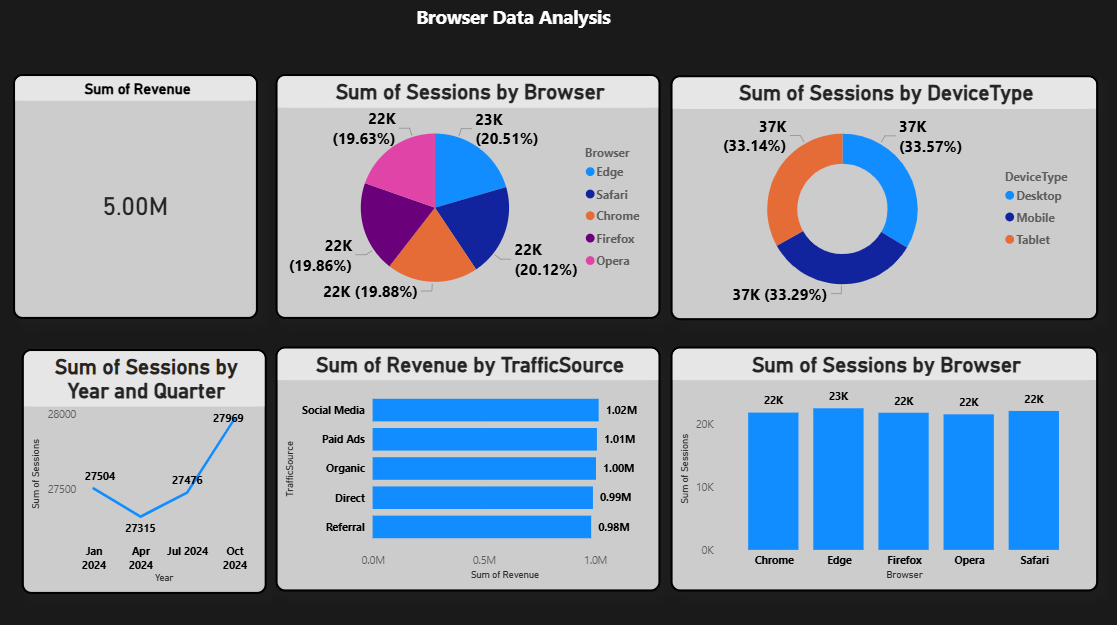

This screenshot's page, from the dashboard's own definition file:
{"tool":"powerbi","page":{"name":"Page 1","canvas":[1280,720],"ordinal":0},"visuals":[{"type":"card","title":"Sum of Revenue","fields":{"Values":["Sum(BrowserAnalyticsData.Revenue)"]},"box":[17.1,85.7,280,280],"z":0},{"type":"pieChart","fields":{"Category":["BrowserAnalyticsData.Browser"],"Y":["Sum(BrowserAnalyticsData.Sessions)"]},"box":[317.1,85.7,440,280],"z":1000},{"type":"donutChart","fields":{"Category":["BrowserAnalyticsData.DeviceType"],"Y":["Sum(BrowserAnalyticsData.Sessions)"]},"box":[768.6,87.1,488.6,280],"z":2000},{"type":"lineChart","fields":{"Category":["BrowserAnalyticsData.Date.Variation.Date Hierarchy.Year","BrowserAnalyticsData.Date.Variation.Date Hierarchy.Quarter","BrowserAnalyticsData.Date.Variation.Date Hierarchy.Month","BrowserAnalyticsData.Date.Variation.Date Hierarchy.Day"],"Y":["Sum(BrowserAnalyticsData.Sessions)"]},"box":[27.4,400.7,279.9,279.9],"z":3000},{"type":"clusteredBarChart","fields":{"Category":["BrowserAnalyticsData.TrafficSource"],"Y":["Sum(BrowserAnalyticsData.Revenue)"]},"box":[317.1,397.1,440,280],"z":4000},{"type":"columnChart","fields":{"Category":["BrowserAnalyticsData.Browser","BrowserAnalyticsData.DeviceType"],"Y":["Sum(BrowserAnalyticsData.Sessions)"]},"box":[768.6,397.1,488.6,280],"z":5000},{"type":"textbox","box":[473.4,0,434,41.5],"z":6000}]}

Visuals, with their boxes in screenshot pixels (x1, y1, x2, y2), scaled from the page's 1280x720 canvas onto the 1117x625 screenshot:
"Sum of Revenue" card: {"x1": 15, "y1": 74, "x2": 259, "y2": 317}
pieChart - BrowserAnalyticsData.Browser x Sum(BrowserAnalyticsData.Sessions): {"x1": 277, "y1": 74, "x2": 661, "y2": 317}
donutChart - BrowserAnalyticsData.DeviceType x Sum(BrowserAnalyticsData.Sessions): {"x1": 671, "y1": 76, "x2": 1097, "y2": 319}
lineChart - BrowserAnalyticsData.Date.Variation.Date Hierarchy.Year x BrowserAnalyticsData.Date.Variation.Date Hierarchy.Quarter: {"x1": 24, "y1": 348, "x2": 268, "y2": 591}
clusteredBarChart - BrowserAnalyticsData.TrafficSource x Sum(BrowserAnalyticsData.Revenue): {"x1": 277, "y1": 345, "x2": 661, "y2": 588}
columnChart - BrowserAnalyticsData.Browser x BrowserAnalyticsData.DeviceType: {"x1": 671, "y1": 345, "x2": 1097, "y2": 588}
textbox: {"x1": 413, "y1": 0, "x2": 792, "y2": 36}
